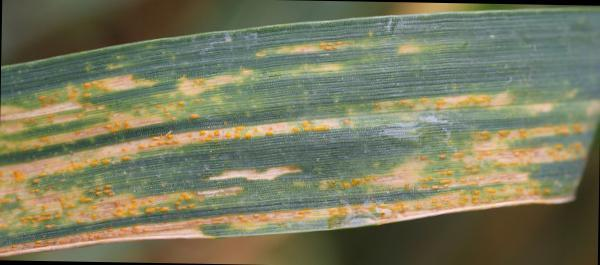Wheat: (40, 78, 337, 177), (7, 176, 213, 242), (406, 147, 564, 211)
